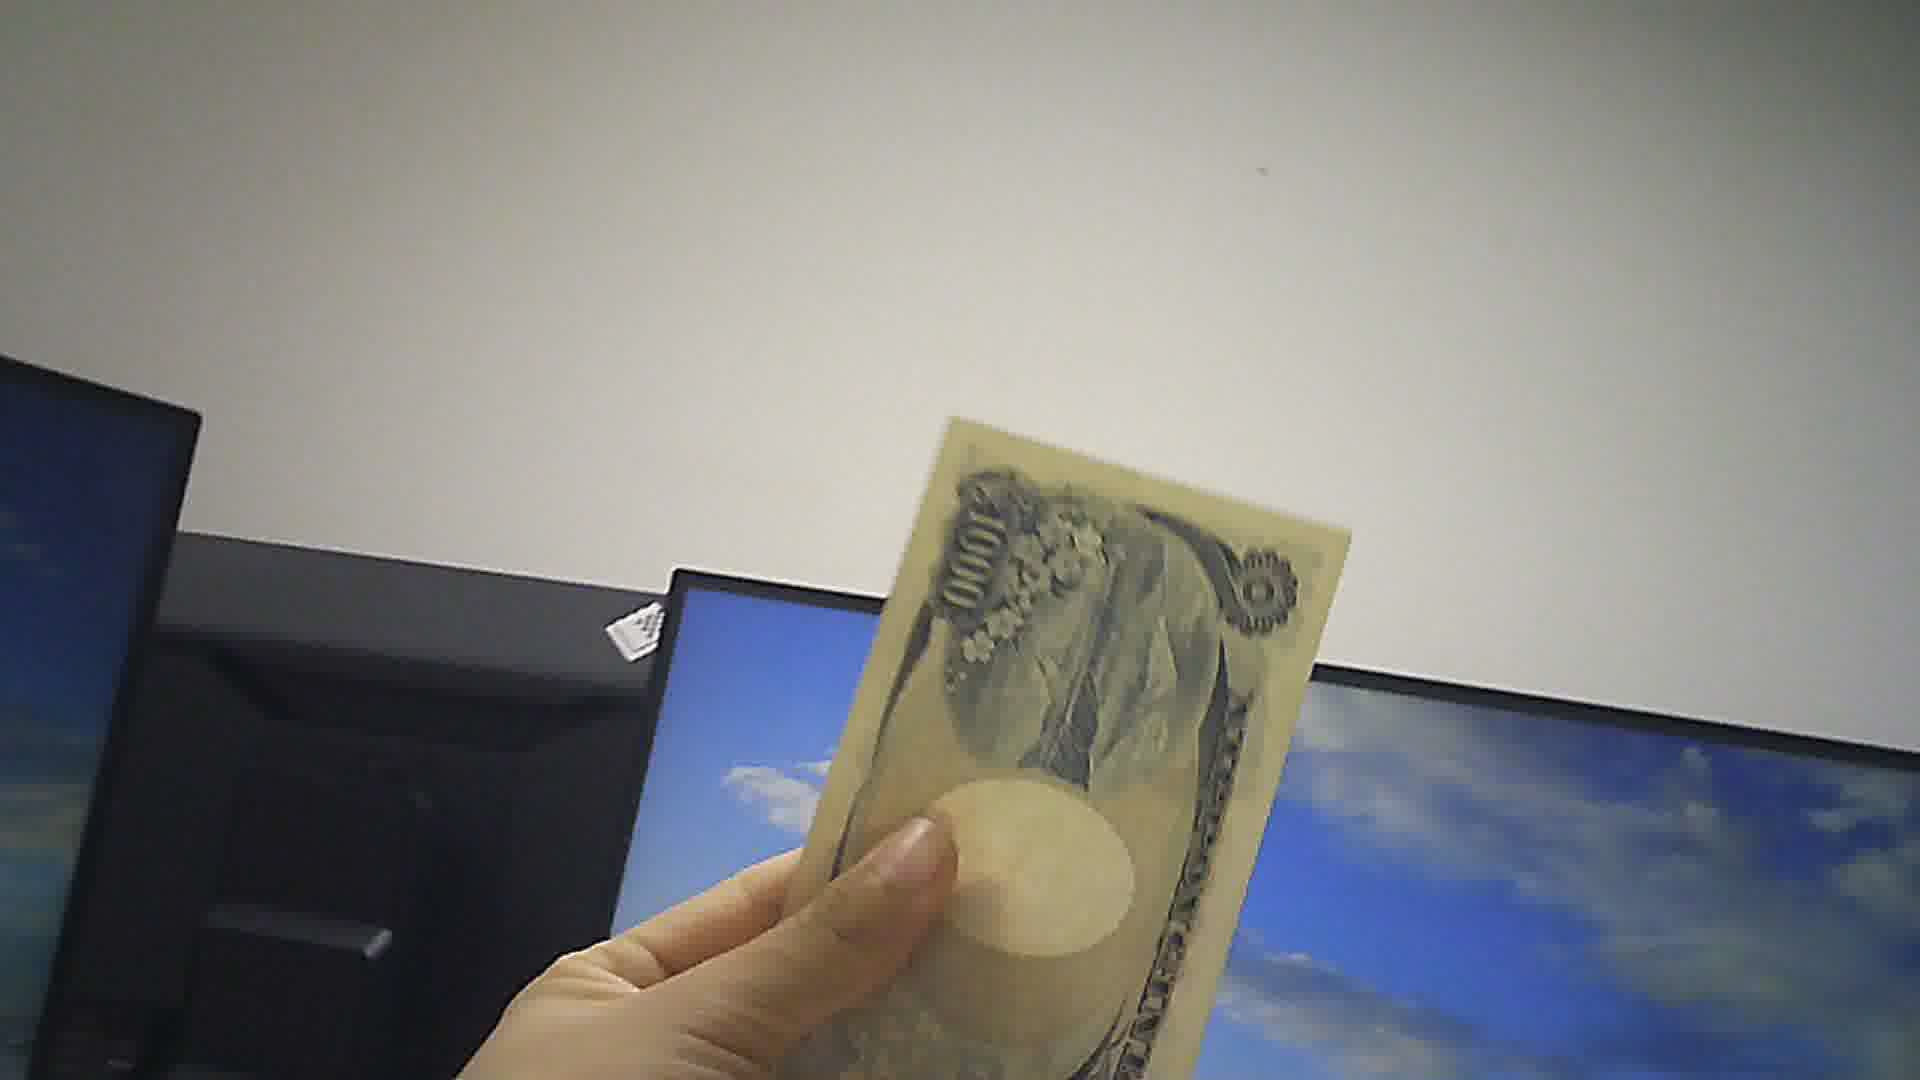1,000 Yen: (800, 400, 1360, 1079)
